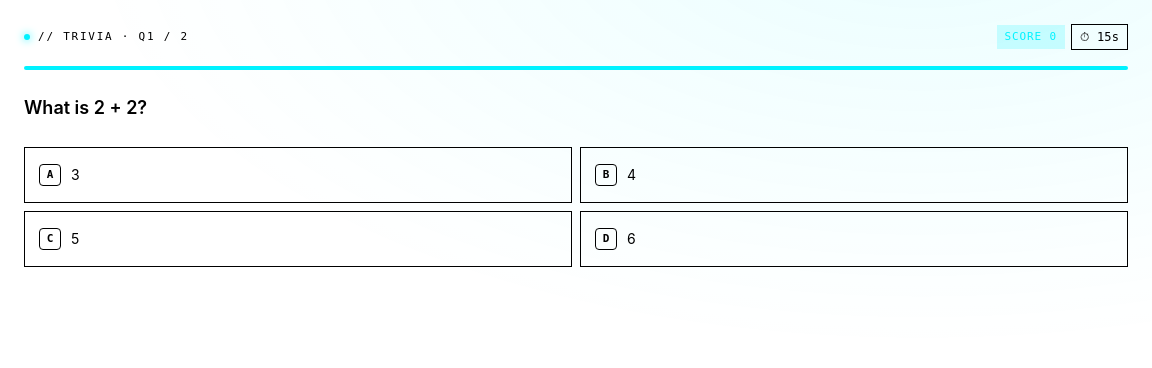
Scenario: TriviaExperience › shows See results button on the last question
Step 1. Click the text "4" → (632, 175), box [627, 165, 636, 185]
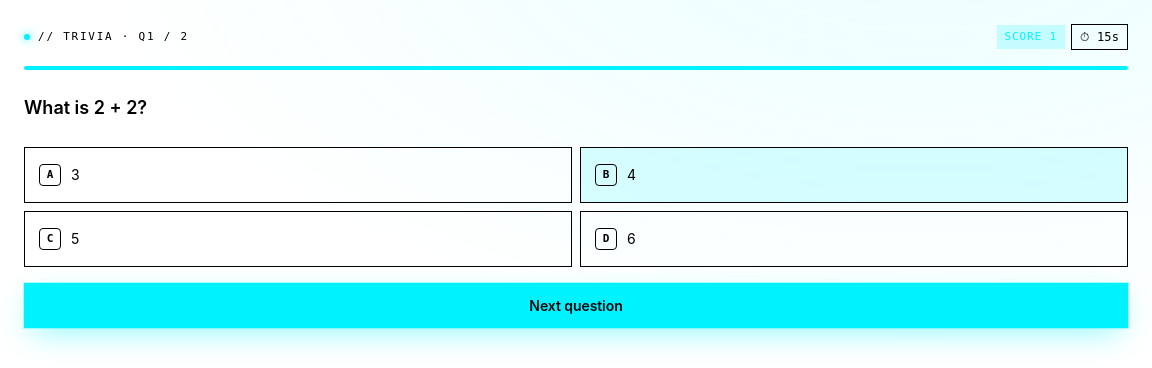
Step 2. Click the button "Next question" → (576, 305), box [24, 283, 1128, 328]
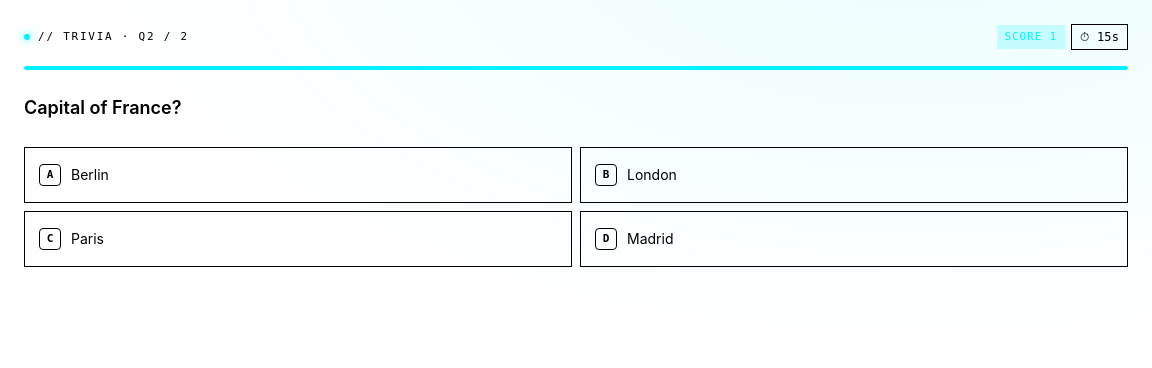
Step 3. Click the text "Paris" → (88, 239), box [71, 229, 104, 249]
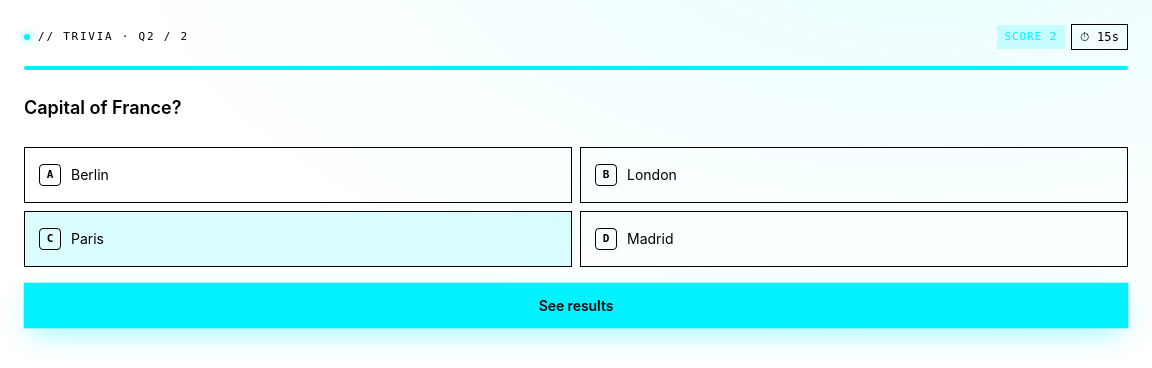
Now the button "See results" is shown, box [24, 283, 1128, 328]
